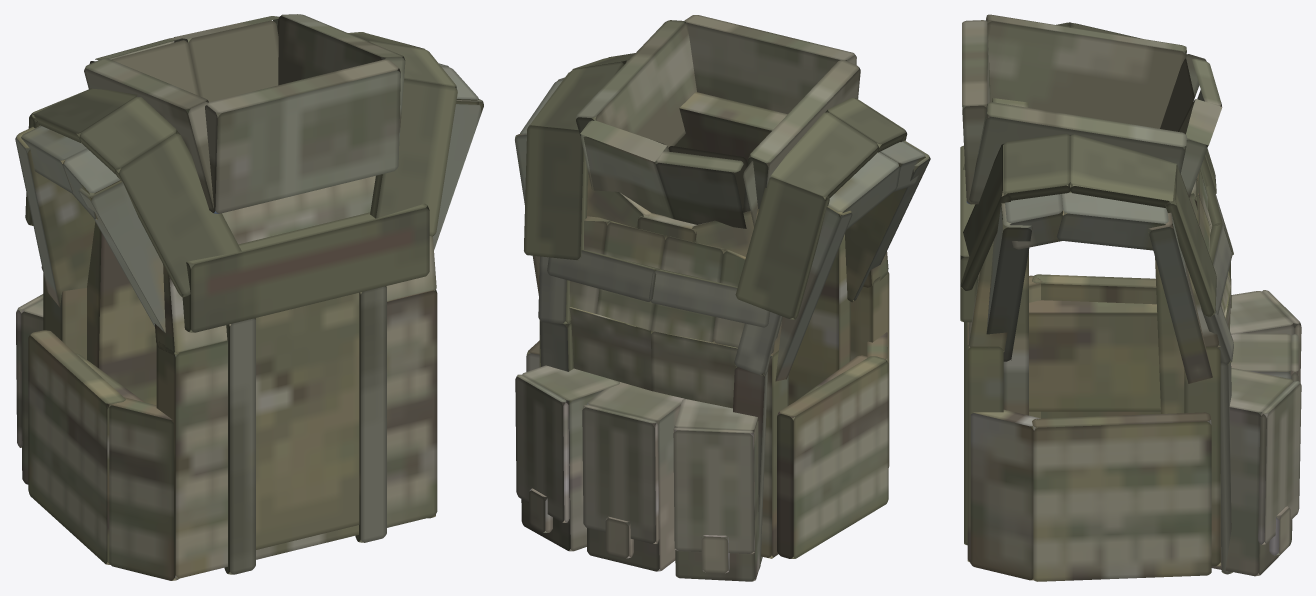
File: osprey.obj
The picture shows the model from 3 angles, left to right: view 1: azimuth 30°, elevation 25°; view 2: azimuth 150°, elevation 25°; view 3: azimuth 270°, elevation 25°; orthographic projection. The views are drawn at different scales.
Parts seen in each view (by area): view 1: cube; view 2: cube; view 3: cube.
Boxes of the visible parts, <box> form: cube: <box>15,14,483,580</box>; cube: <box>515,15,930,581</box>; cube: <box>960,14,1301,581</box>.
Bounding box in the file's own units: 0.7558 × 0.874 × 0.5902.
